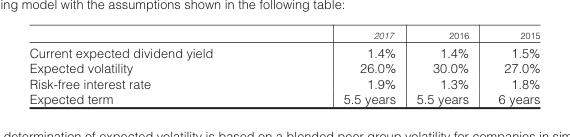table: (28, 29, 539, 106)
table column: (28, 29, 277, 106), (277, 29, 405, 106), (405, 29, 482, 106), (482, 29, 539, 106)
table column header: (28, 29, 539, 42)
table row: (28, 42, 539, 60), (28, 90, 539, 106), (28, 60, 539, 75), (28, 75, 539, 90), (28, 29, 539, 42)
